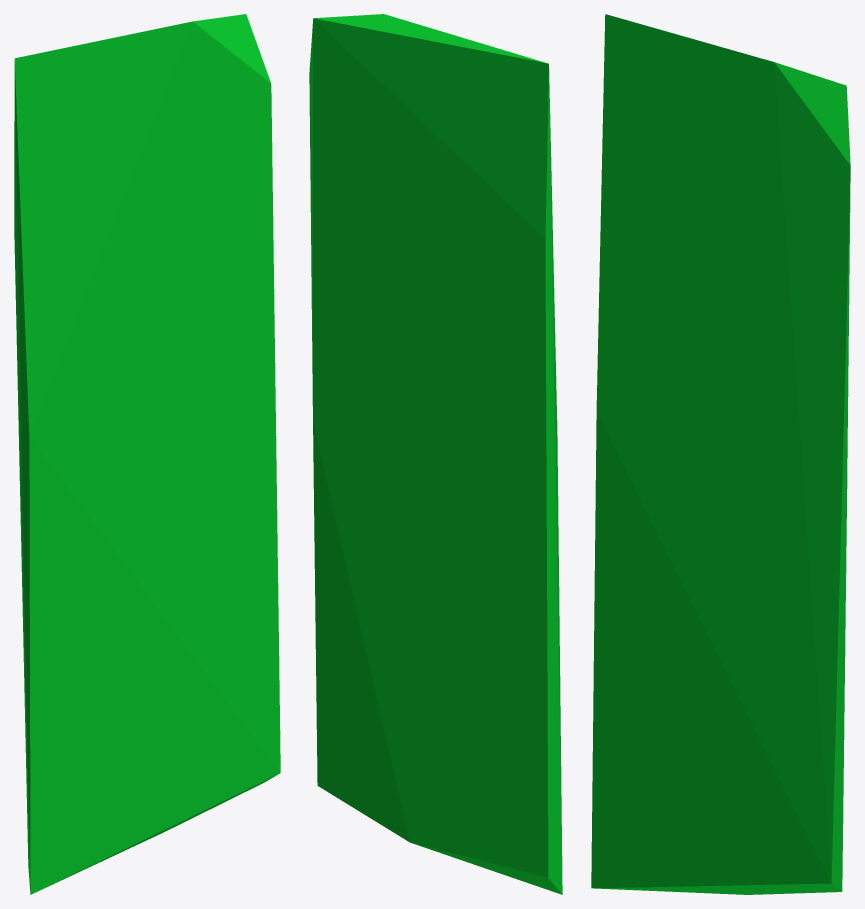
Rendered from waste_bin_convex_piece_007.obj.
3 renders of one model, left to right at view 1: azimuth 30°, elevation 25°; view 2: azimuth 150°, elevation 25°; view 3: azimuth 330°, elevation 25°, orthographic. The views are drawn at different scales.
Bounding box in the file's own units: 0.1186 × 0.3815 × 0.0222.
